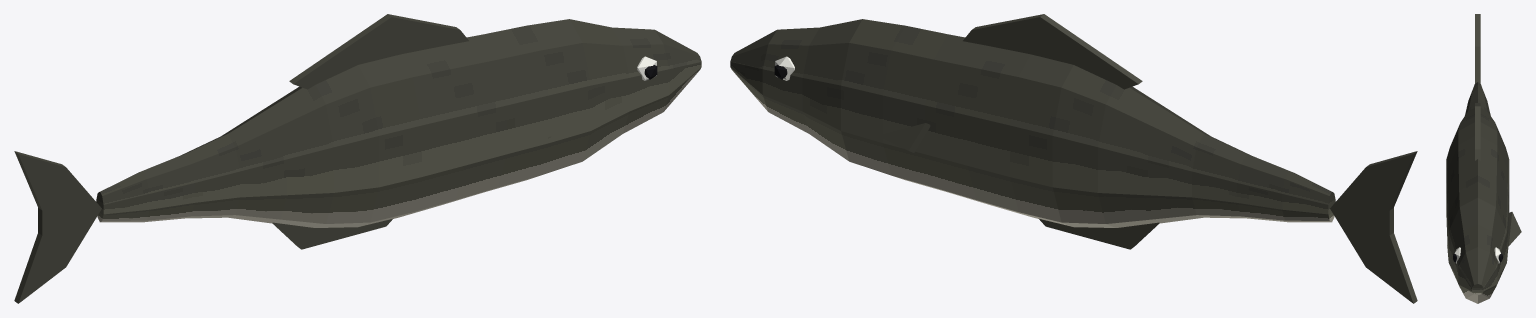
The model's file is black_jewfish.glb.
3 views of the same model, side by side, from view 1: azimuth 30°, elevation 25°; view 2: azimuth 150°, elevation 25°; view 3: azimuth 270°, elevation 25° (orthographic). The views are drawn at different scales.
Visible parts, largest first — view 1: fish_black_jewfish; view 2: fish_black_jewfish; view 3: fish_black_jewfish.
Boxes of the visible parts, x1=… form: fish_black_jewfish: x1=14, y1=14, x2=701, y2=303; fish_black_jewfish: x1=730, y1=14, x2=1417, y2=303; fish_black_jewfish: x1=1446, y1=14, x2=1521, y2=303.
Bounding box in the file's own units: 1.14 × 0.337 × 0.1619.
Materials: 4 (1 with a texture image).
